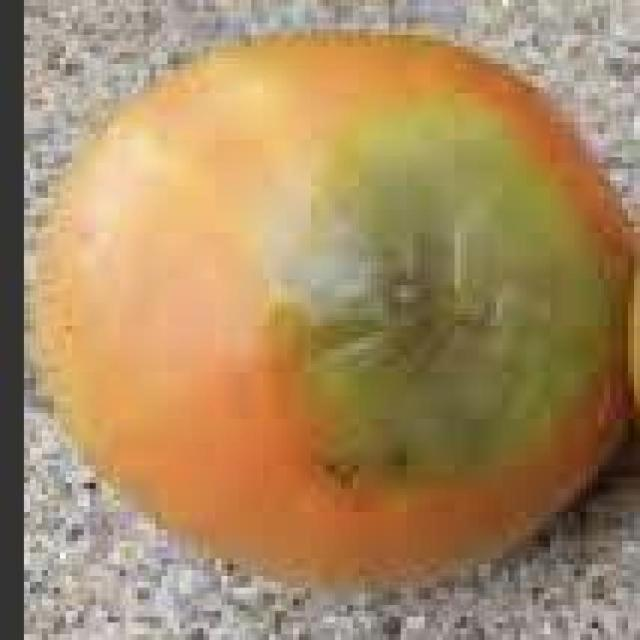Blossom End Rot Fruit: (97, 50, 408, 334)
